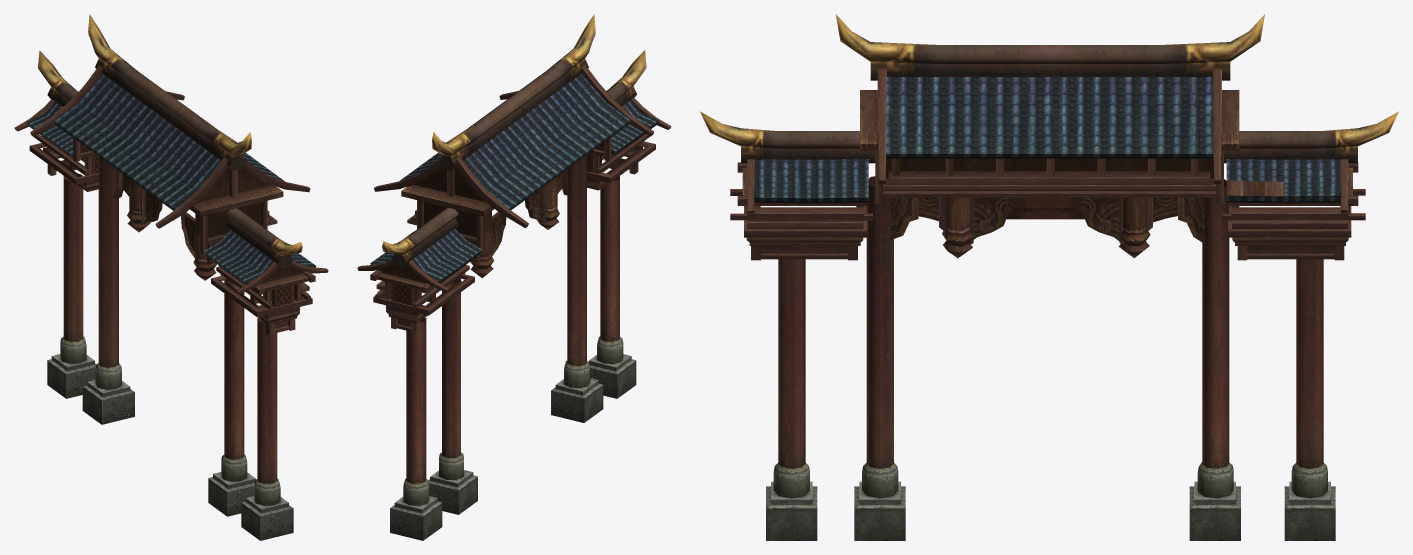
Rendered from jz_paifang01_53_35_3126out.fbx.
3 renders of one model, left to right at view 1: azimuth 30°, elevation 25°; view 2: azimuth 150°, elevation 25°; view 3: azimuth 270°, elevation 25°, orthographic. The views are drawn at different scales.
Parts seen in each view (by area): view 1: jz_paifang01; view 2: jz_paifang01; view 3: jz_paifang01.
Part boxes in pixels (x1,y1,x2,y2): jz_paifang01: [14, 14, 328, 540]; jz_paifang01: [357, 14, 671, 540]; jz_paifang01: [700, 14, 1398, 540].
Size of the model in its own units: 3.6 by 8.71 by 10.7.
